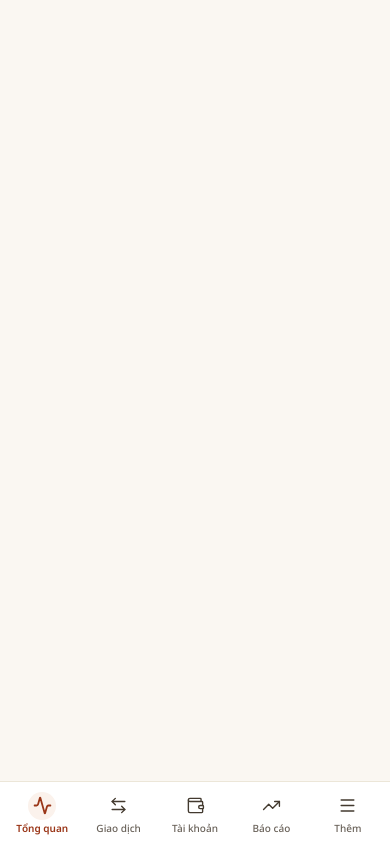
Test case: MobileBottomNav component › closes drawer on Escape key
Click the button with aria-label "Mở menu chức năng mở rộng" at [348, 813], box x1=310 y1=788 x2=386 y2=838
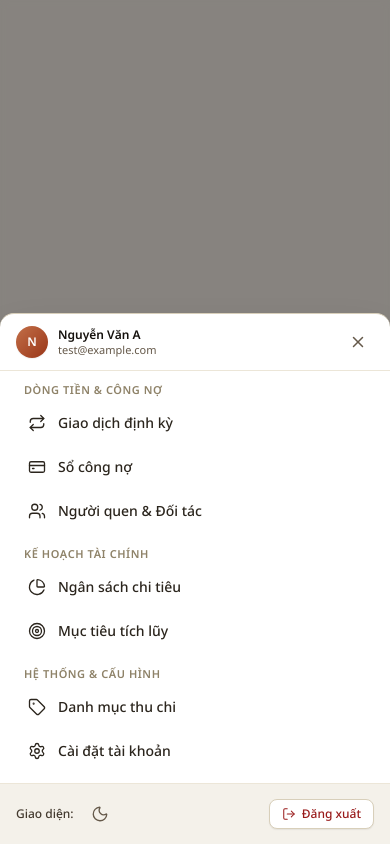
Result: the dialog is shown
Press Escape
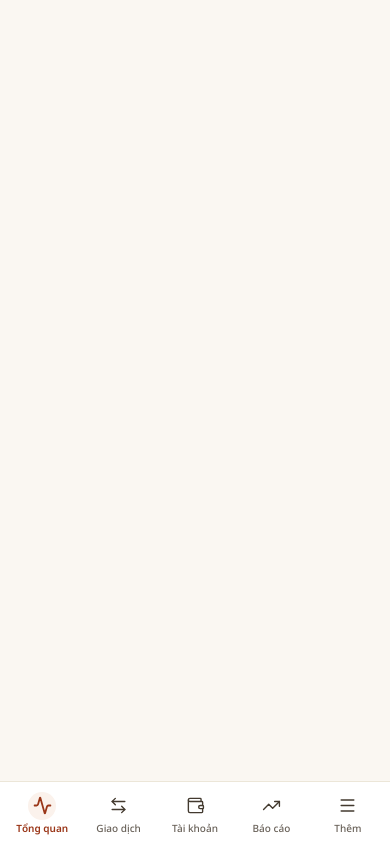
Result: the dialog is gone
